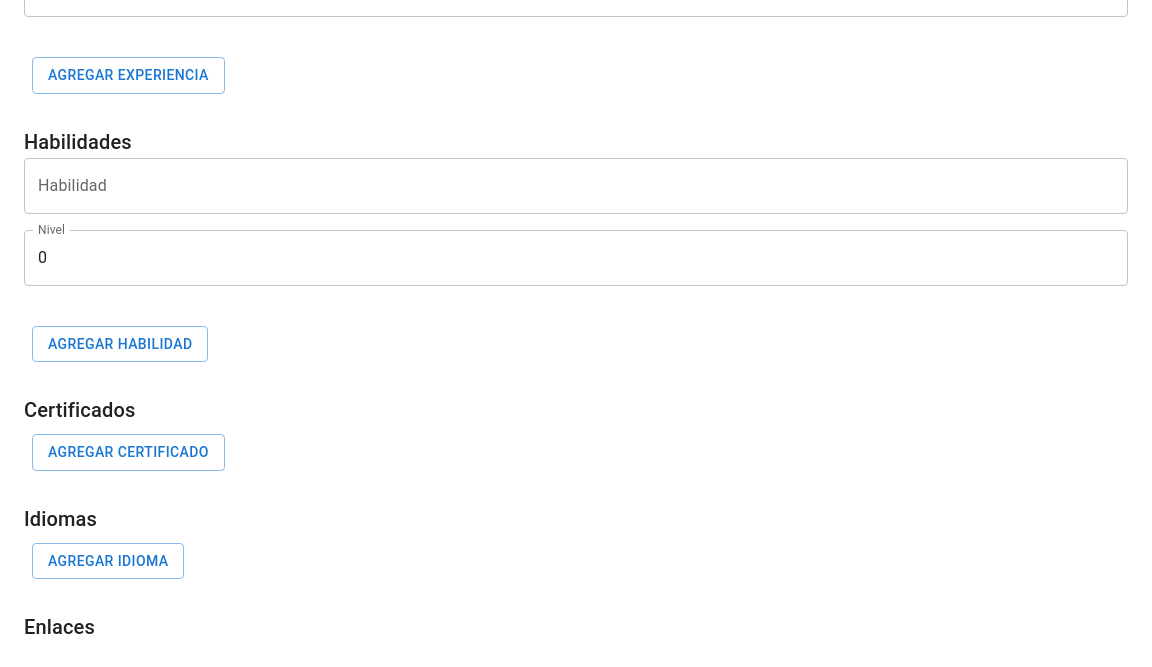
Test: CVForm › adds skill fields
(page scrolled)
Click the button "Agregar Habilidad" at (120,344), box [32,326,208,362]
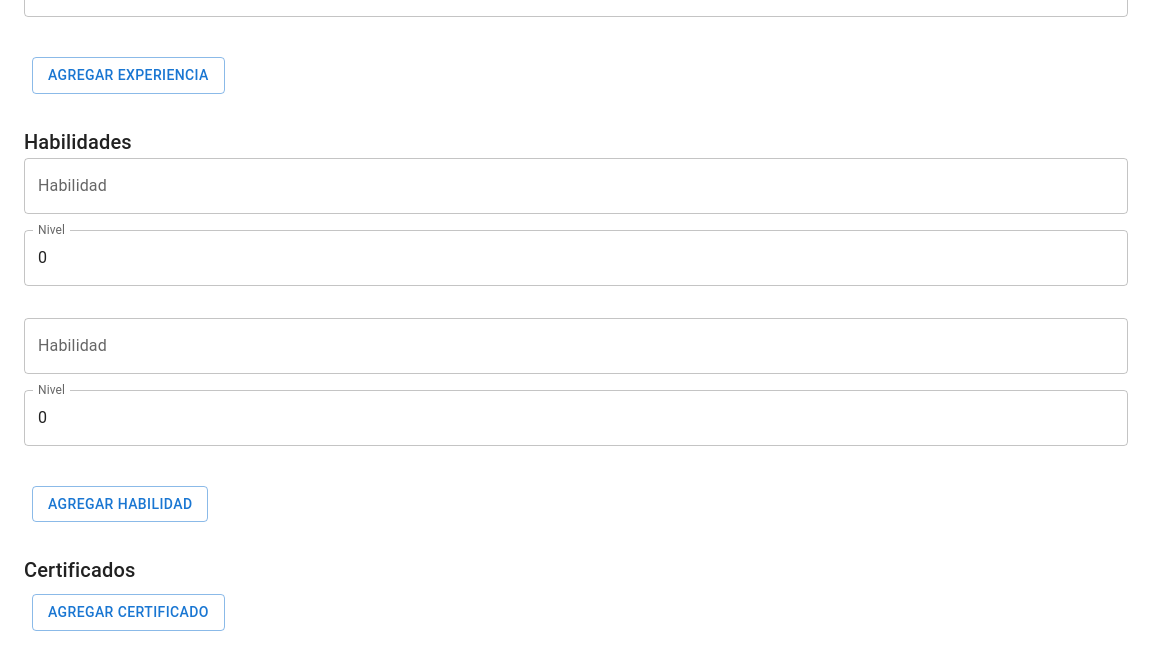
Expected: the number of fields labelled "Habilidad" is 2, [24,158,1128,214]; [24,318,1128,374]
